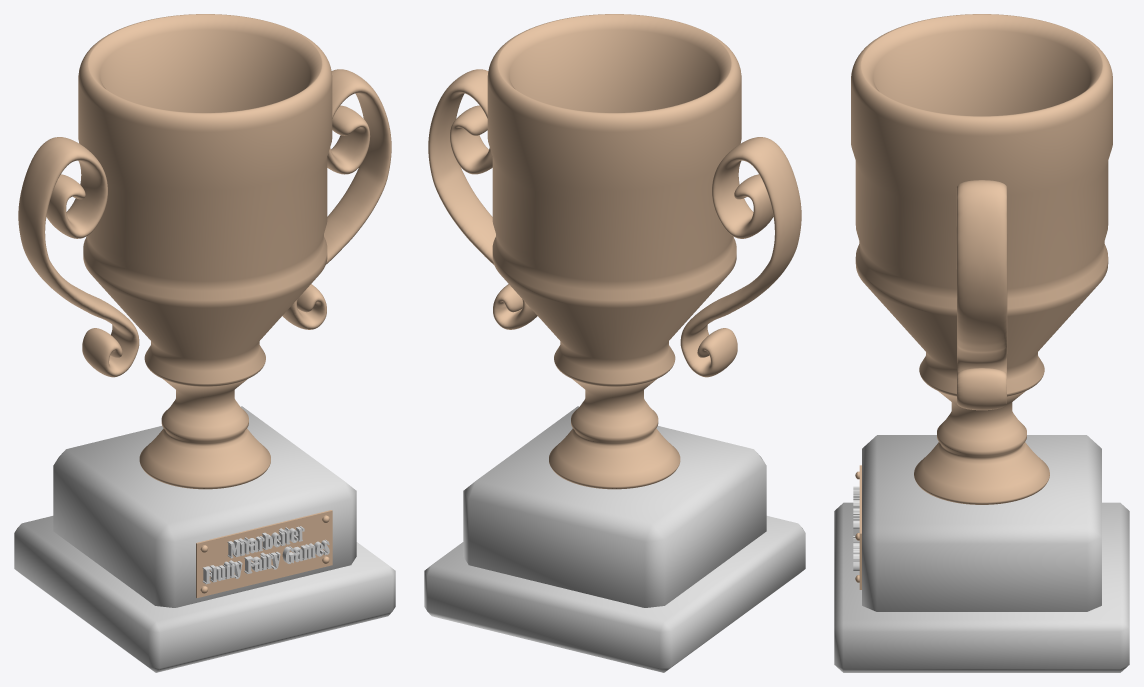
Rendered from pokal 3.fbx.
3 renders of one model, left to right at view 1: azimuth 30°, elevation 25°; view 2: azimuth 150°, elevation 25°; view 3: azimuth 270°, elevation 25°, orthographic. The views are drawn at different scales.
Parts seen in each view (by area): view 1: Cilindro, Würfel, Cubo_1, Cubo, Cubo_2_2, Cubo_2, Deckfläche_1, Extrudieren; view 2: Cilindro, Würfel, Cubo_1, Cubo, Cubo_2_2; view 3: Cilindro, Würfel, Cubo_1, Cubo_2_2, Extrudieren.
Boxes of the visible parts, x1=… form: Cilindro: x1=78, y1=14, x2=332, y2=489; Würfel: x1=53, y1=406, x2=356, y2=607; Cubo_1: x1=14, y1=516, x2=395, y2=672; Cubo: x1=18, y1=137, x2=139, y2=377; Cubo_2_2: x1=282, y1=69, x2=391, y2=329; Cubo_2: x1=196, y1=510, x2=332, y2=597; Deckfläche_1: x1=205, y1=528, x2=329, y2=584; Extrudieren: x1=202, y1=526, x2=328, y2=583; Cilindro: x1=487, y1=14, x2=741, y2=489; Würfel: x1=463, y1=406, x2=766, y2=607; Cubo_1: x1=424, y1=516, x2=805, y2=672; Cubo: x1=680, y1=137, x2=801, y2=377; Cubo_2_2: x1=428, y1=69, x2=537, y2=329; Cilindro: x1=851, y1=14, x2=1112, y2=504; Würfel: x1=862, y1=435, x2=1101, y2=611; Cubo_1: x1=834, y1=502, x2=1129, y2=672; Cubo_2_2: x1=956, y1=180, x2=1007, y2=410; Extrudieren: x1=853, y1=486, x2=859, y2=570.
Bounding box in the file's own units: 526 × 749 × 365.
